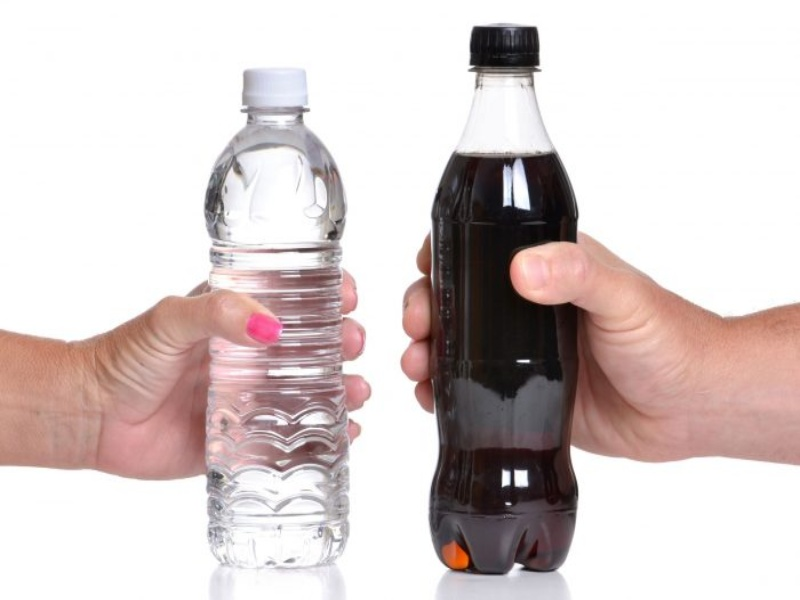Plastic bottle: (393, 9, 601, 569), (181, 62, 382, 571)
